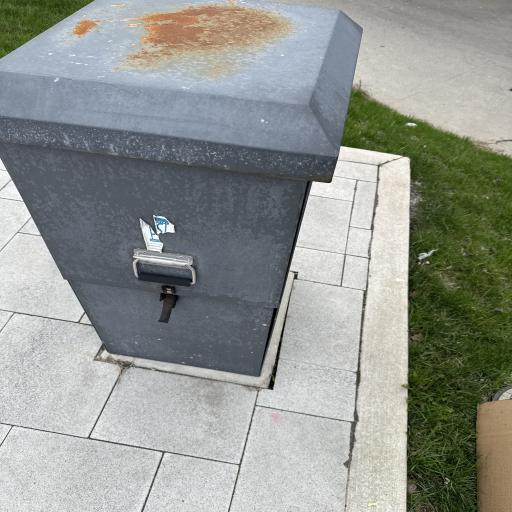Electrical Box: (0, 0, 361, 376)
